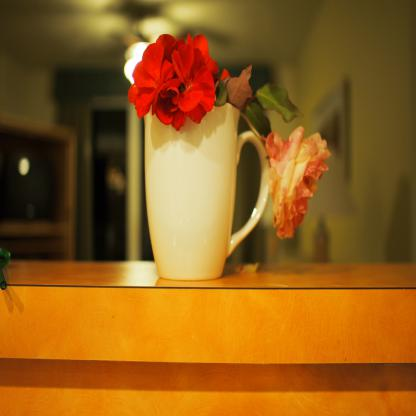vase: (144, 104, 272, 282)
